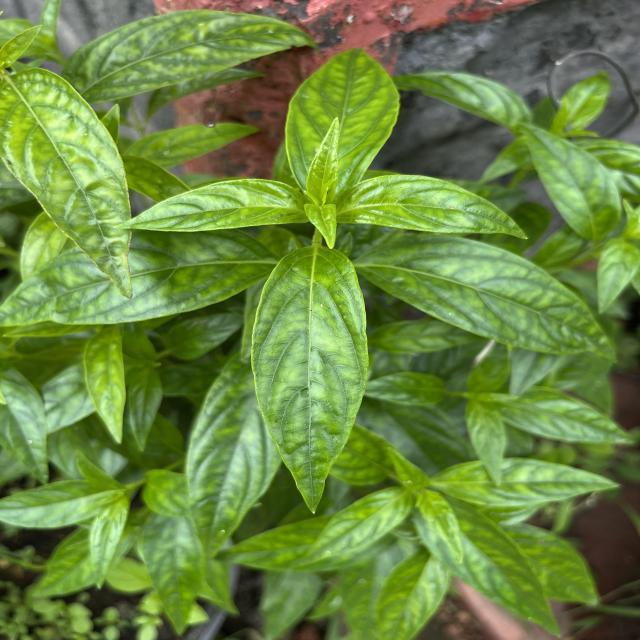Andrographis paniculata: (354, 229, 622, 366), (248, 243, 372, 516), (0, 66, 135, 300), (0, 231, 272, 325), (59, 8, 318, 101), (420, 492, 563, 639), (183, 351, 281, 563), (282, 45, 402, 189), (340, 172, 530, 242), (519, 121, 621, 242), (115, 177, 312, 234), (434, 456, 624, 508), (294, 484, 414, 566), (140, 511, 207, 637), (394, 71, 532, 130), (498, 384, 632, 444), (0, 472, 121, 529), (82, 324, 128, 446), (464, 399, 507, 488)
